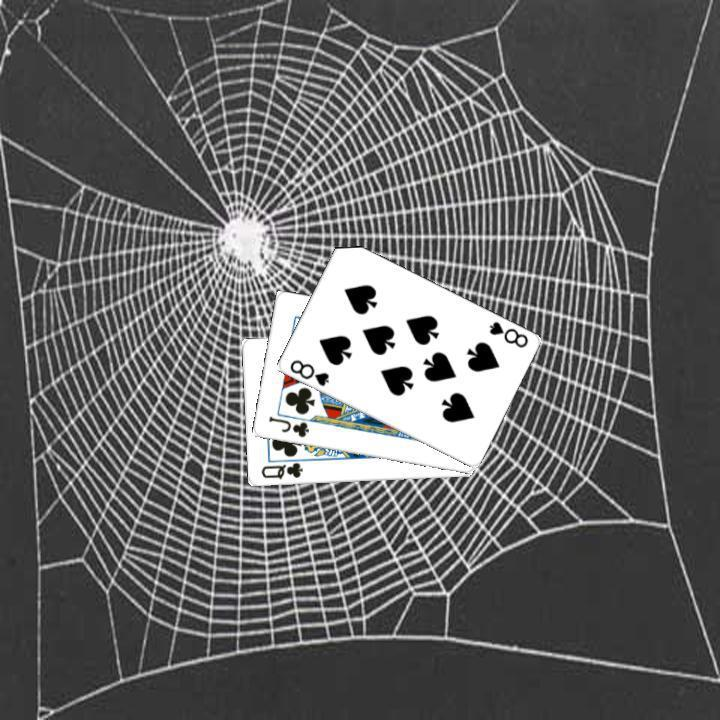8: (285, 355, 331, 388), (484, 317, 530, 350)
J: (264, 412, 310, 440)
Q: (257, 459, 304, 481)
